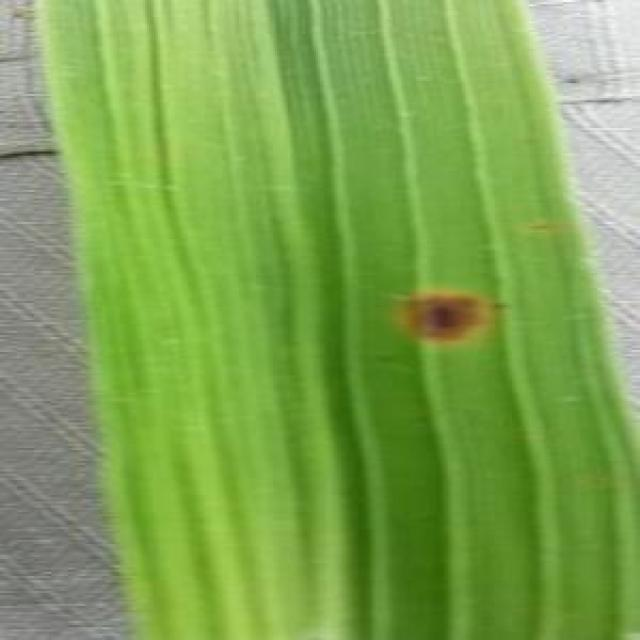brownspots: (390, 278, 490, 342)
